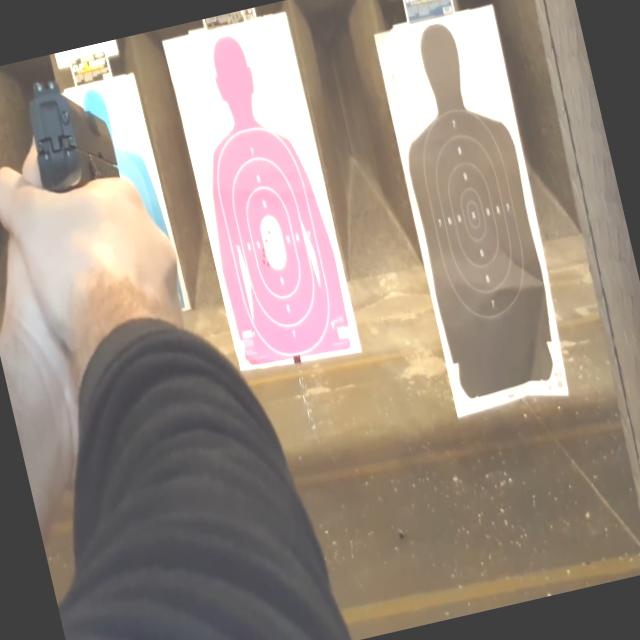handgun: (6, 60, 149, 239)
